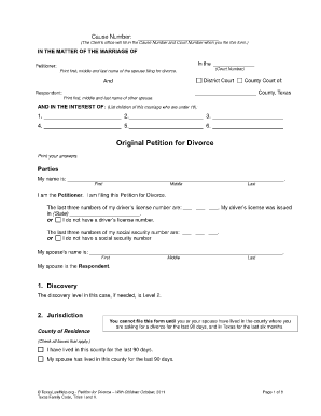checkbox: (195, 77, 203, 84), (236, 77, 244, 84), (37, 346, 45, 353), (37, 356, 45, 363)
textline: (66, 174, 286, 183), (88, 249, 286, 256), (137, 33, 220, 42), (43, 112, 123, 121), (128, 112, 204, 121), (67, 209, 142, 218), (211, 112, 285, 121), (43, 122, 123, 130), (129, 122, 205, 130), (211, 122, 285, 130), (195, 88, 258, 97), (213, 59, 255, 68), (182, 205, 193, 211), (195, 205, 206, 211), (208, 205, 219, 211), (195, 230, 206, 236), (181, 230, 192, 236), (208, 230, 219, 236)
